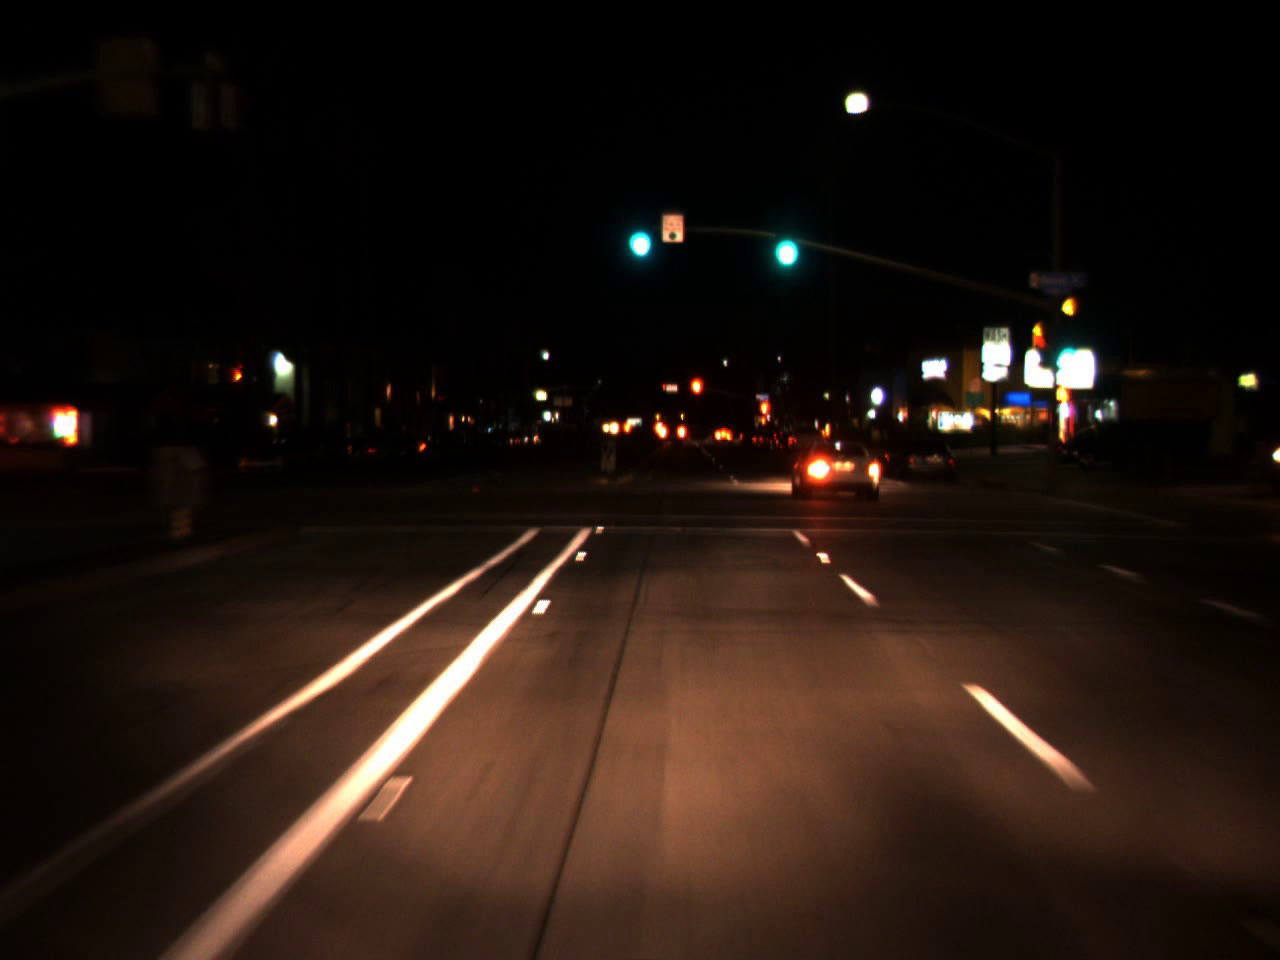go: (765, 206, 804, 275), (620, 198, 656, 267), (1049, 330, 1081, 375)
stop: (688, 375, 703, 415), (758, 398, 771, 430)
